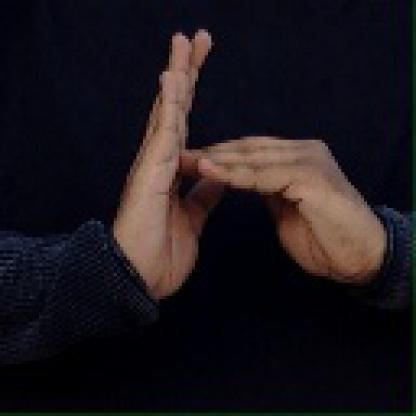Z: (112, 22, 364, 286)
